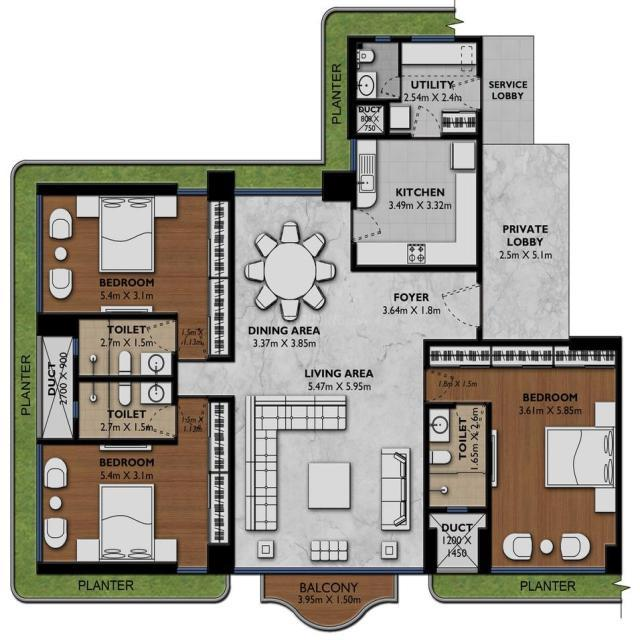Balcony-Sitout: (260, 573, 396, 630)
Bedroom with Toilet: (421, 336, 623, 575), (36, 188, 234, 379), (38, 378, 230, 574)
Dining: (240, 214, 340, 328)
Enterance-Foyer: (381, 273, 508, 338)
Kitchen: (347, 134, 481, 272)
Living: (232, 396, 429, 575)
Toilet: (422, 398, 494, 515), (73, 315, 179, 385), (72, 374, 178, 443)
Utility: (346, 34, 482, 140)
